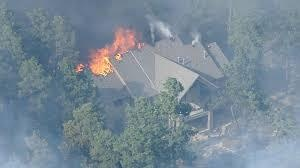fire: (76, 25, 145, 74)
